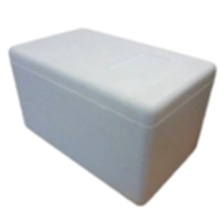foam_box: (6, 25, 220, 208)
